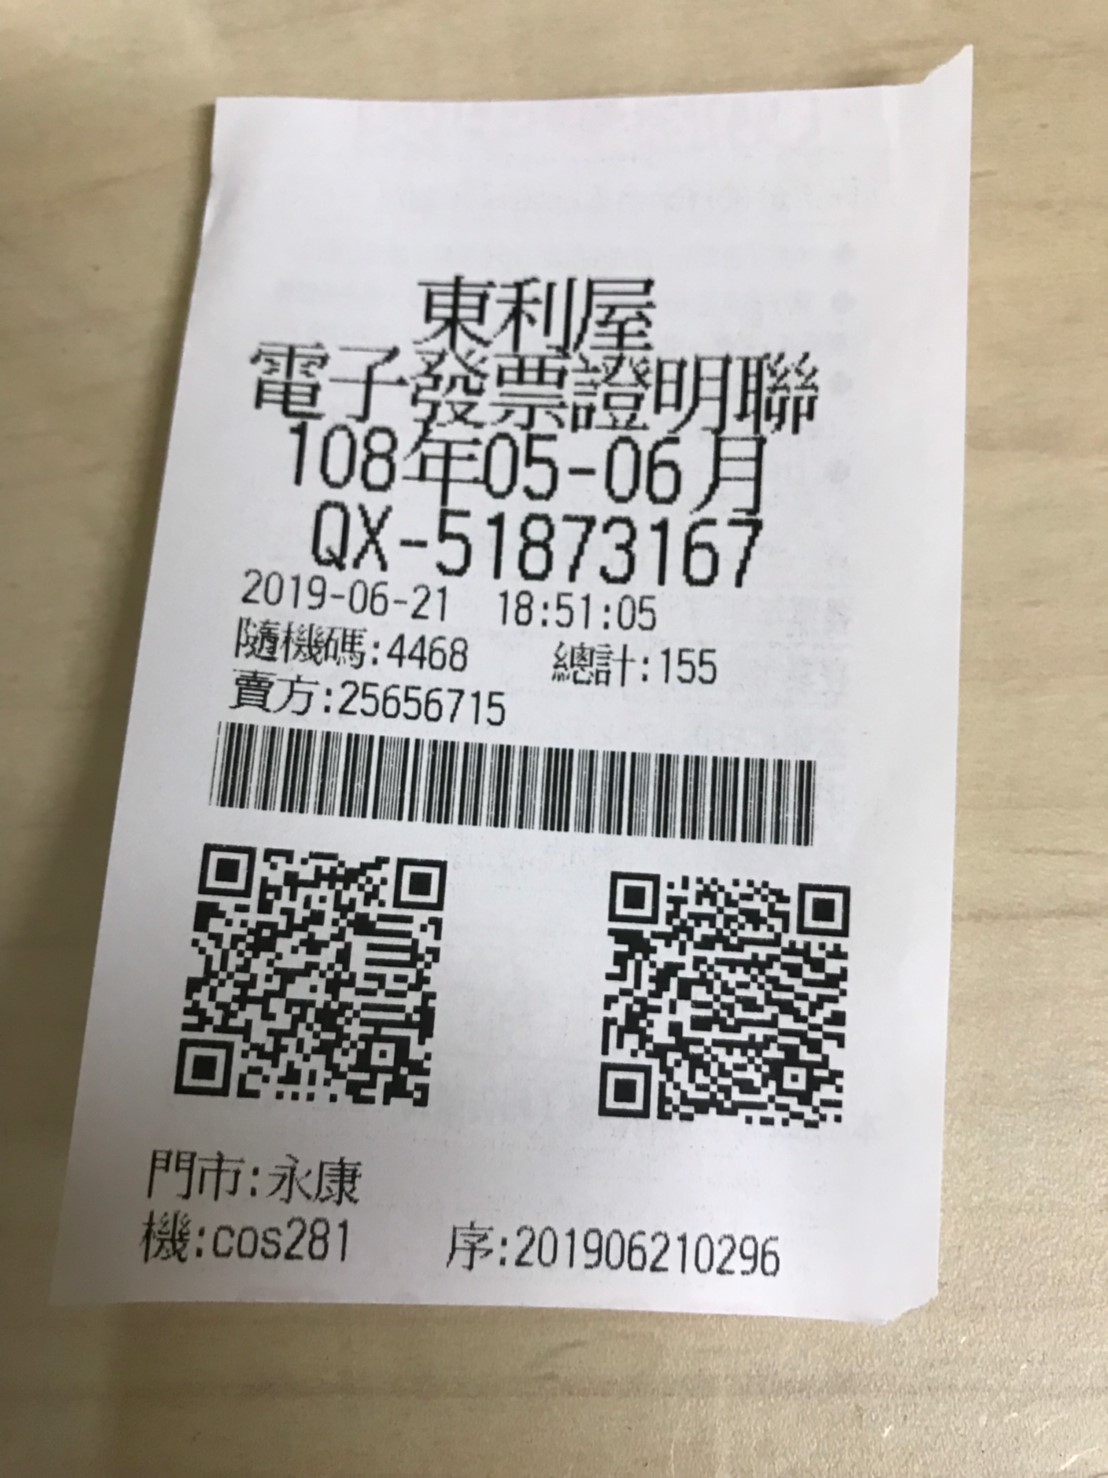Date_New: (287, 415, 770, 516)
Number_New: (434, 504, 766, 591)
